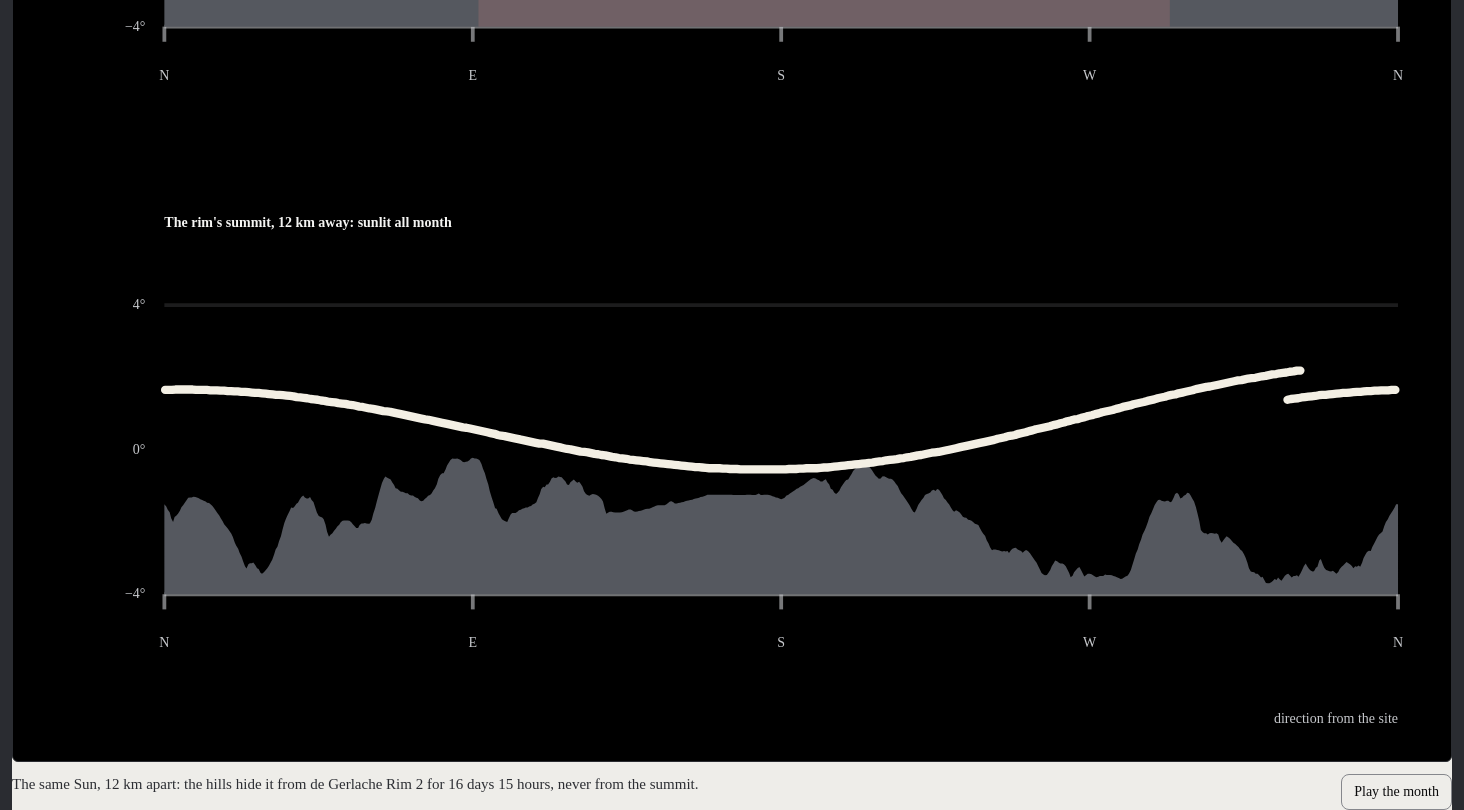
the drawings of why the south pole is hard › plays from its button, by keyboard as by pointer: a marker runs along the month with the date, then stops on its last day
Later steps or results of the test are not shown.
(page scrolled)
Click the button "Play the month". click: (1397, 792)
box: [1341,774,1452,809]
Wait 10000 ms
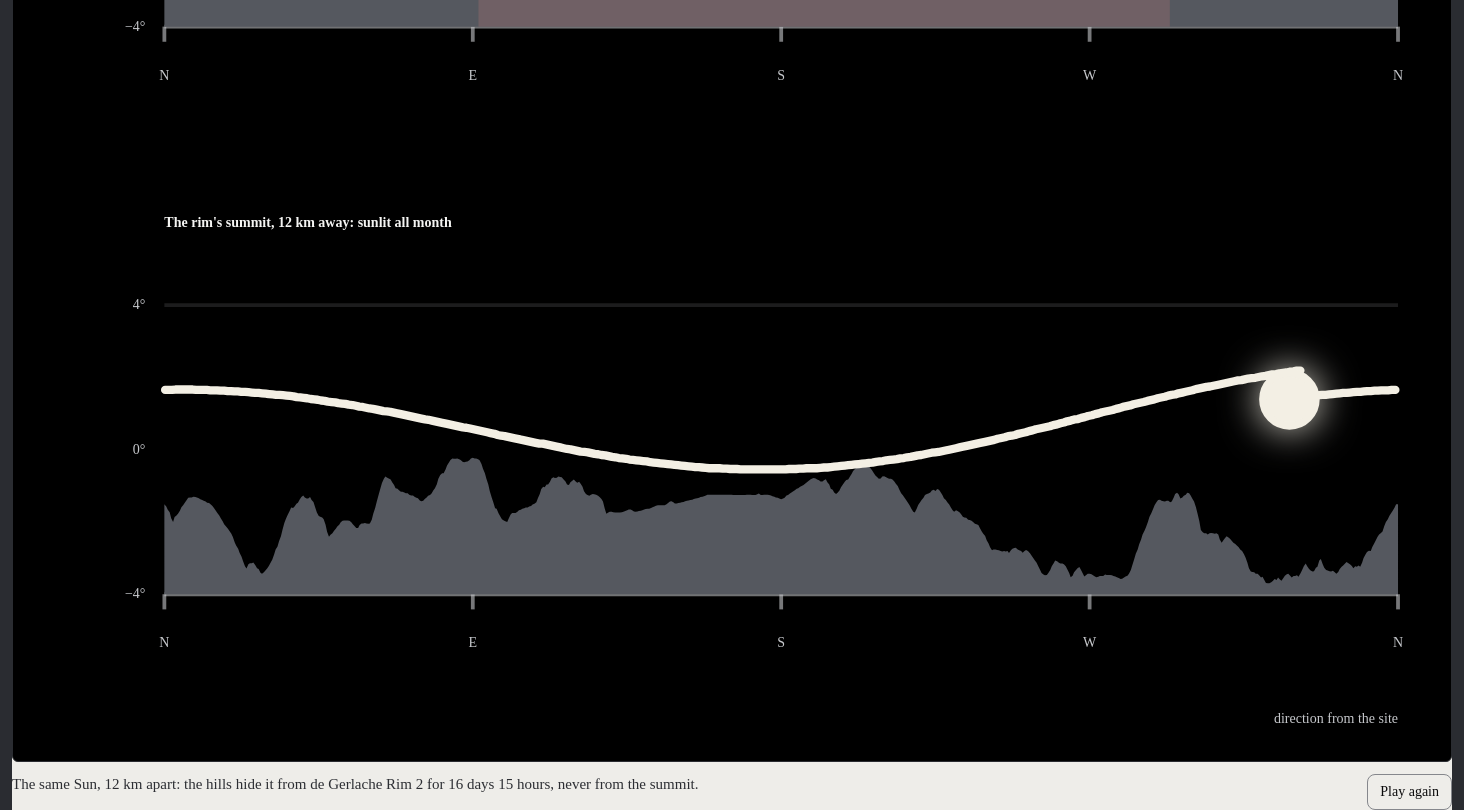
Expected: the button "Play again" is shown, [1367,774,1452,809]
